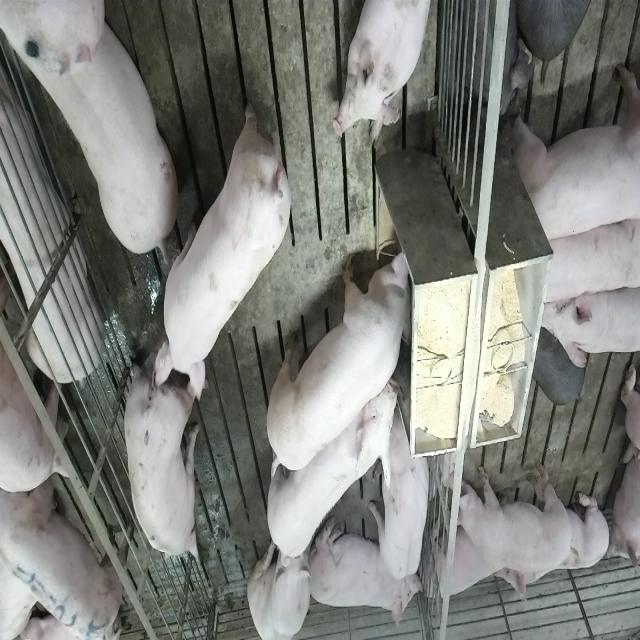Feeding: (270, 246, 422, 474)
Sitting: (248, 530, 314, 640)
Standing: (6, 8, 182, 264), (156, 90, 298, 398), (262, 372, 398, 562), (508, 59, 638, 248), (0, 464, 126, 640), (122, 353, 204, 569), (451, 464, 576, 568), (535, 211, 637, 308), (536, 282, 640, 366), (374, 426, 428, 578)
Sternal_lying: (0, 25, 100, 414), (335, 0, 437, 141), (496, 482, 608, 610), (310, 512, 422, 630), (428, 520, 502, 606)
